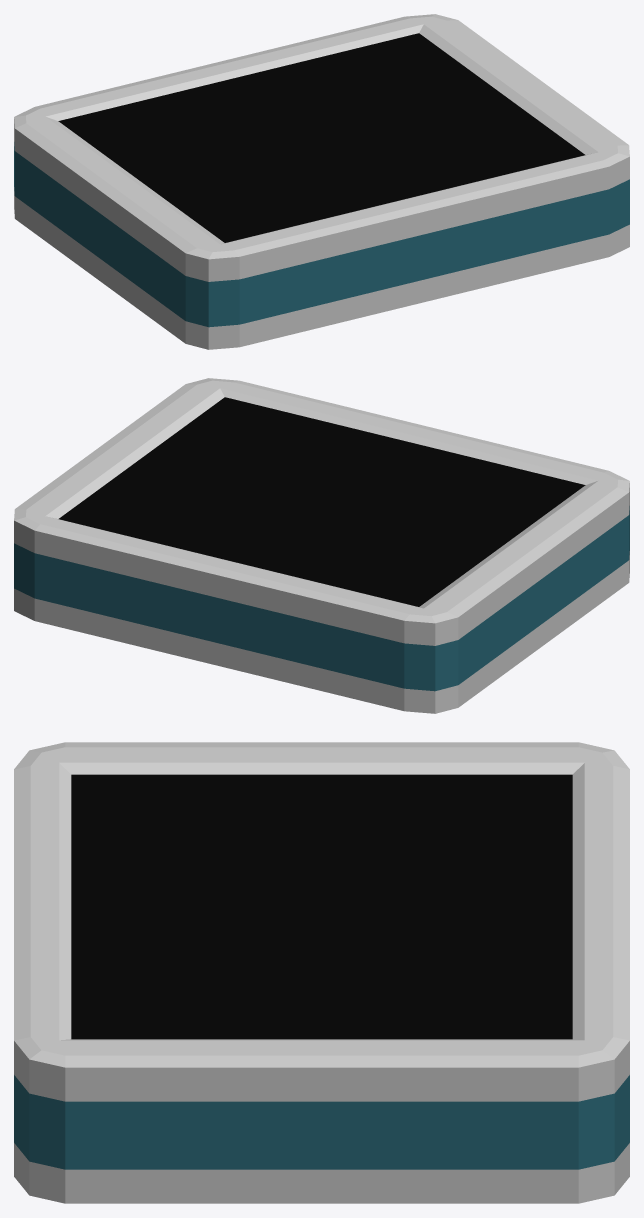
The model's file is Screen.fbx.
The picture shows the model from 3 angles, top to bottom: view 1: azimuth 30°, elevation 25°; view 2: azimuth 150°, elevation 25°; view 3: azimuth 270°, elevation 25°; orthographic projection. The views are drawn at different scales.
Parts seen in each view (by area): view 1: Screen; view 2: Screen; view 3: Screen.
Boxes of the visible parts, bbox=[...] form: Screen: bbox=[14, 14, 629, 349]; Screen: bbox=[14, 378, 629, 713]; Screen: bbox=[14, 742, 629, 1203].
Size of the model in its own units: 62.5 by 12.5 by 50.
